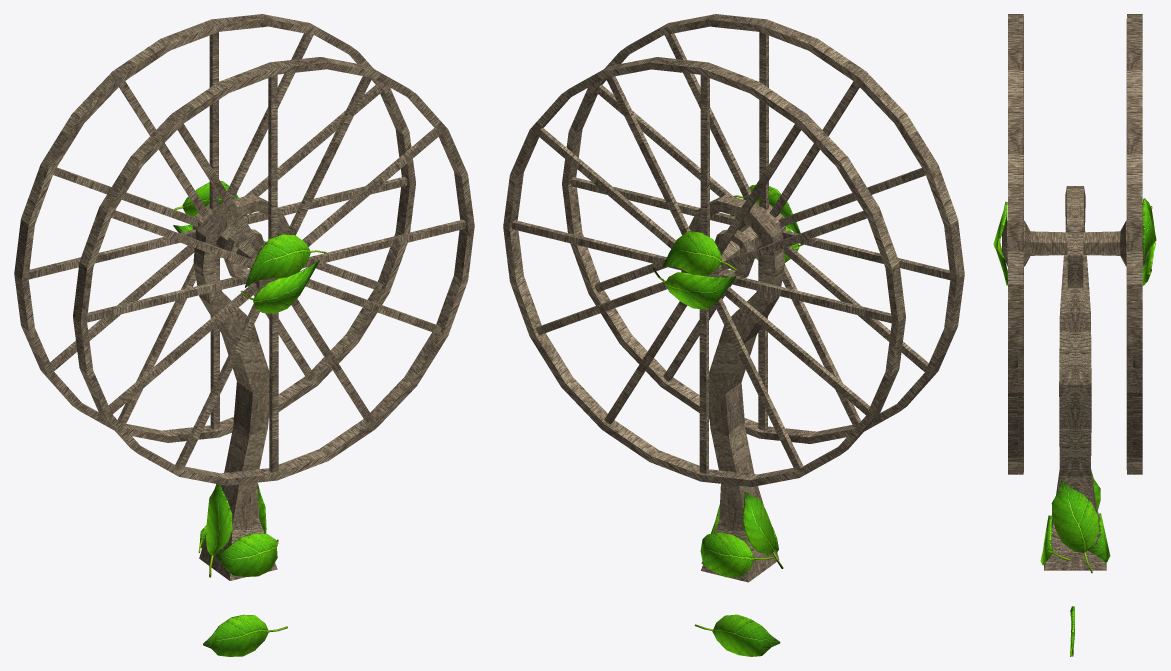
Rendered from ferris-wheel.fbx.
The picture shows the model from 3 angles, left to right: view 1: azimuth 30°, elevation 25°; view 2: azimuth 150°, elevation 25°; view 3: azimuth 270°, elevation 25°; orthographic projection.
Visible parts, largest first — view 1: Circle.001, Circle, leaves.001; view 2: Circle.001, Circle, leaves.001; view 3: Circle.001, Circle, leaves.001.
Part boxes in pixels (x1,y1,x2,y2): Circle.001: (14, 14, 474, 485); Circle: (193, 194, 289, 580); leaves.001: (173, 181, 326, 656); Circle.001: (503, 14, 964, 486); Circle: (689, 194, 784, 582); leaves.001: (651, 184, 803, 656); Circle.001: (1002, 14, 1148, 474); Circle: (1044, 186, 1106, 570); leaves.001: (993, 198, 1156, 656).
Bounding box in the file's own units: 3505 × 5184 × 1237.
2 materials, 2 textured.
